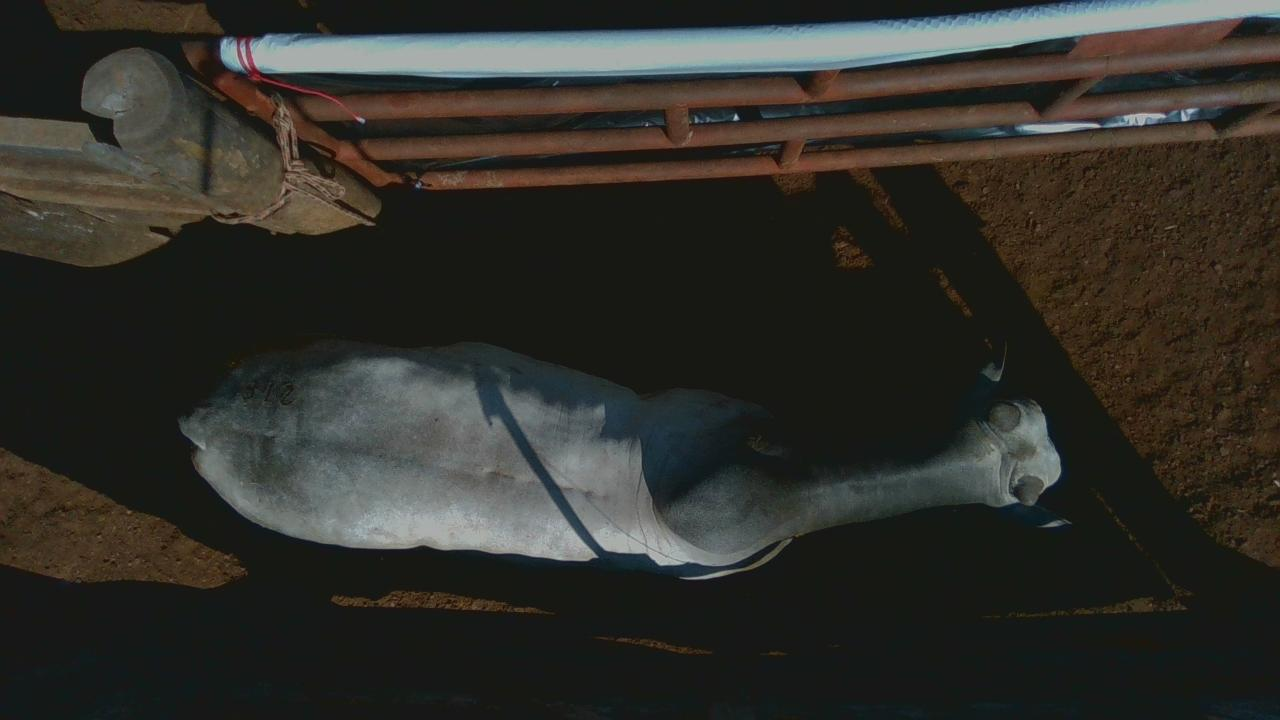cattle: (177, 334, 1064, 581)
